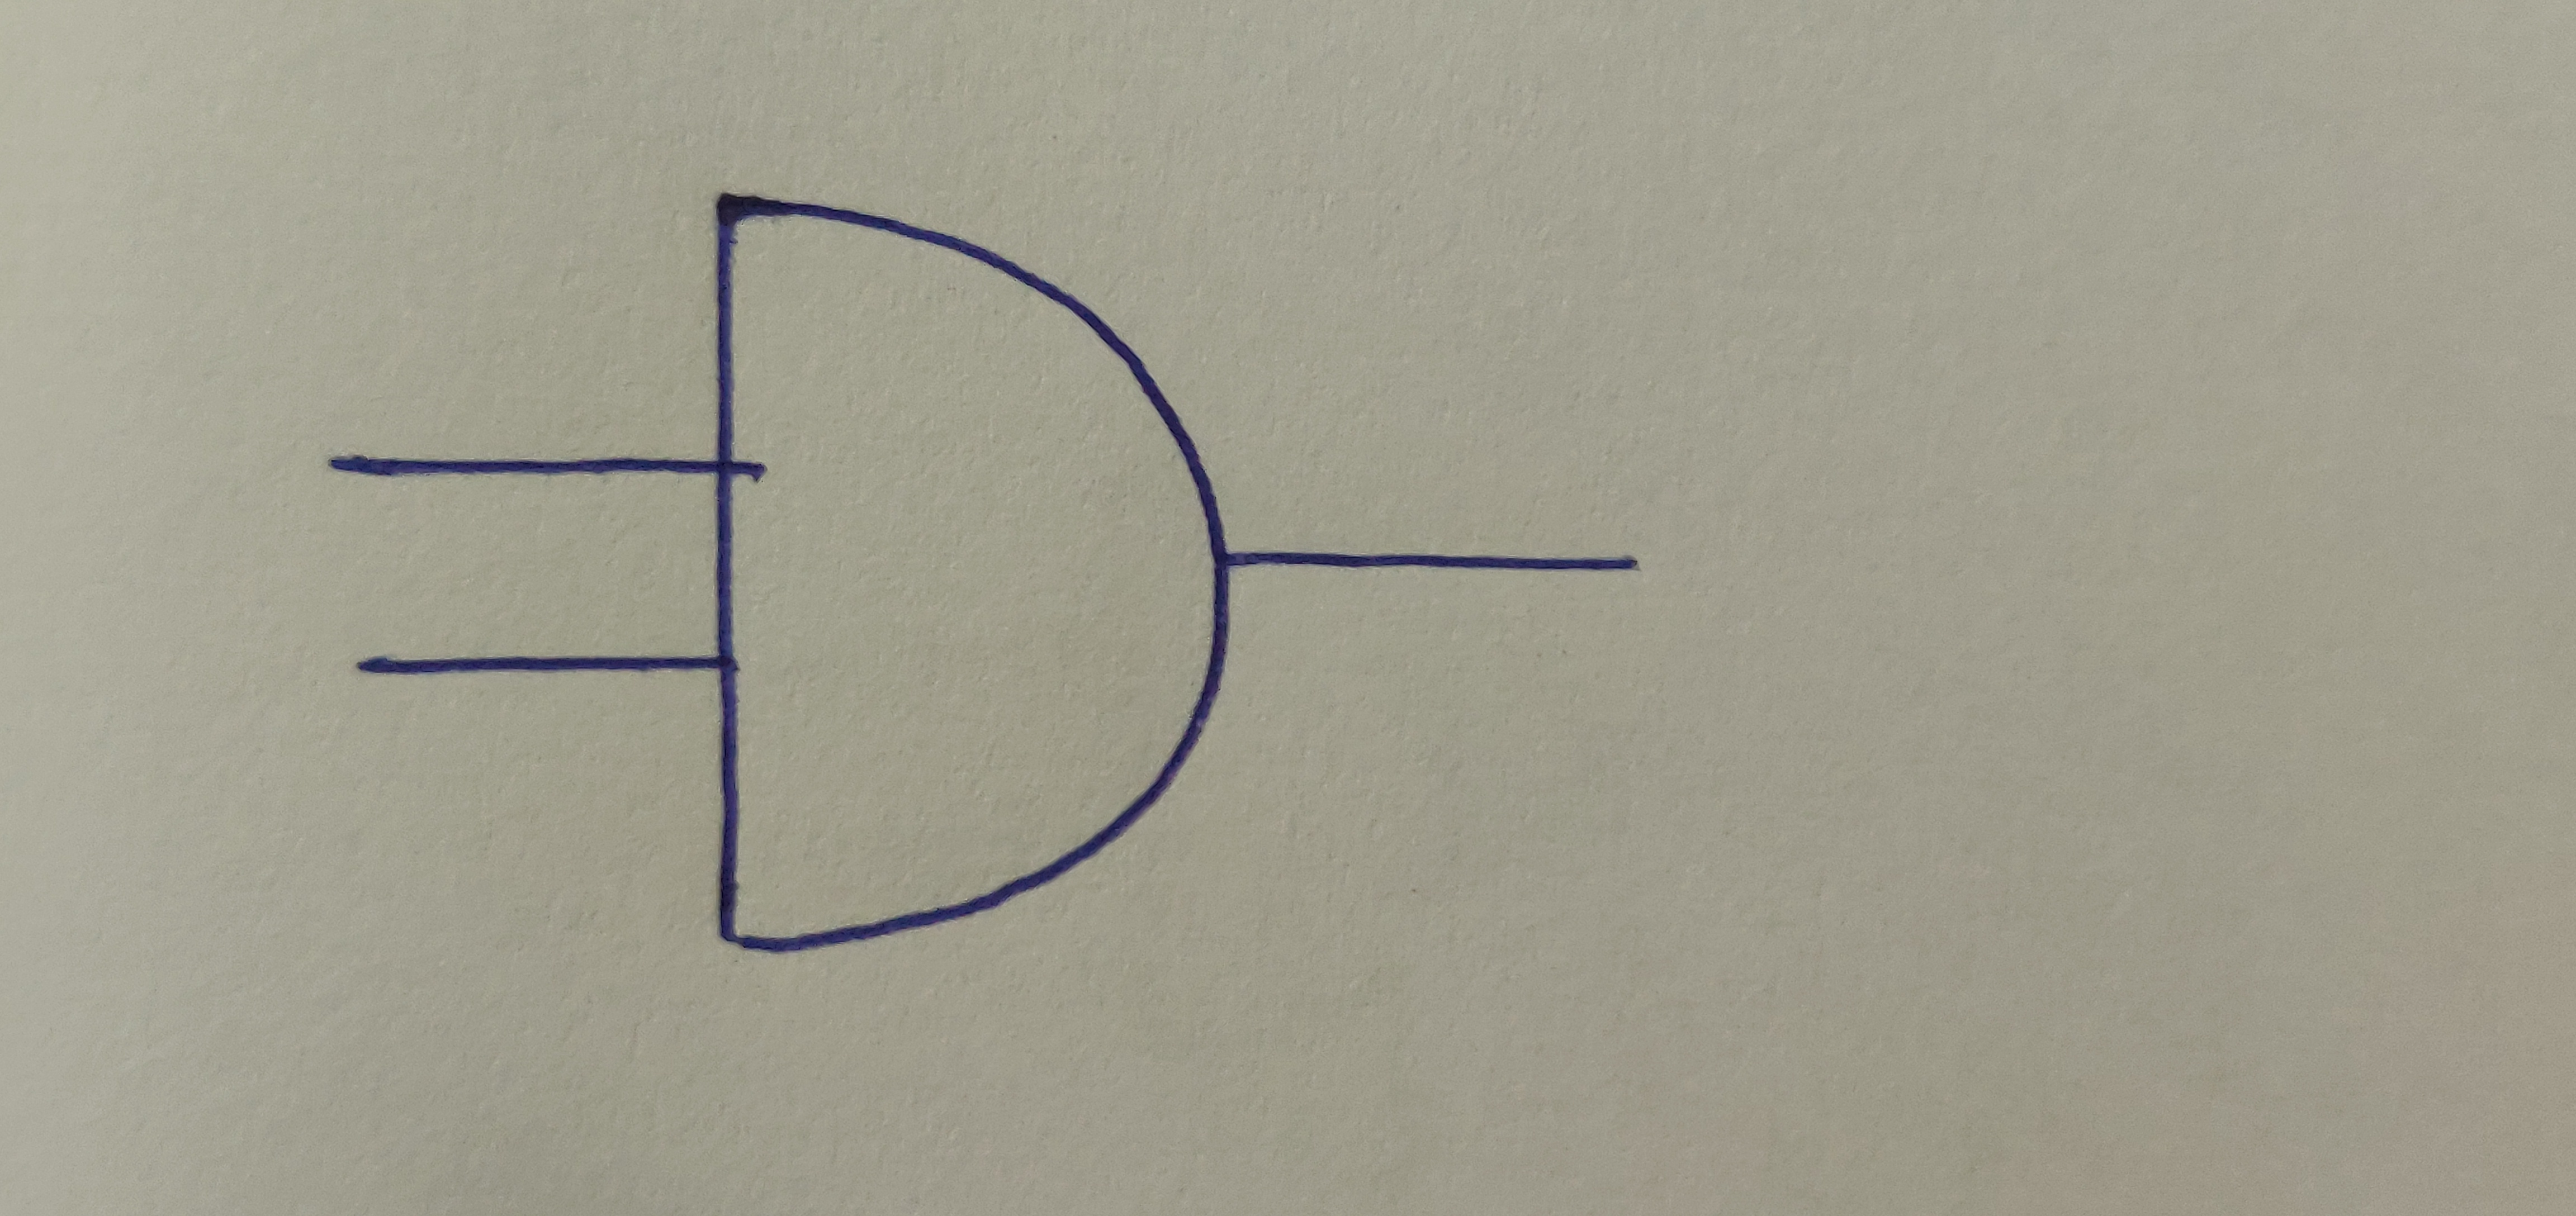and: (711, 184, 1237, 955)
